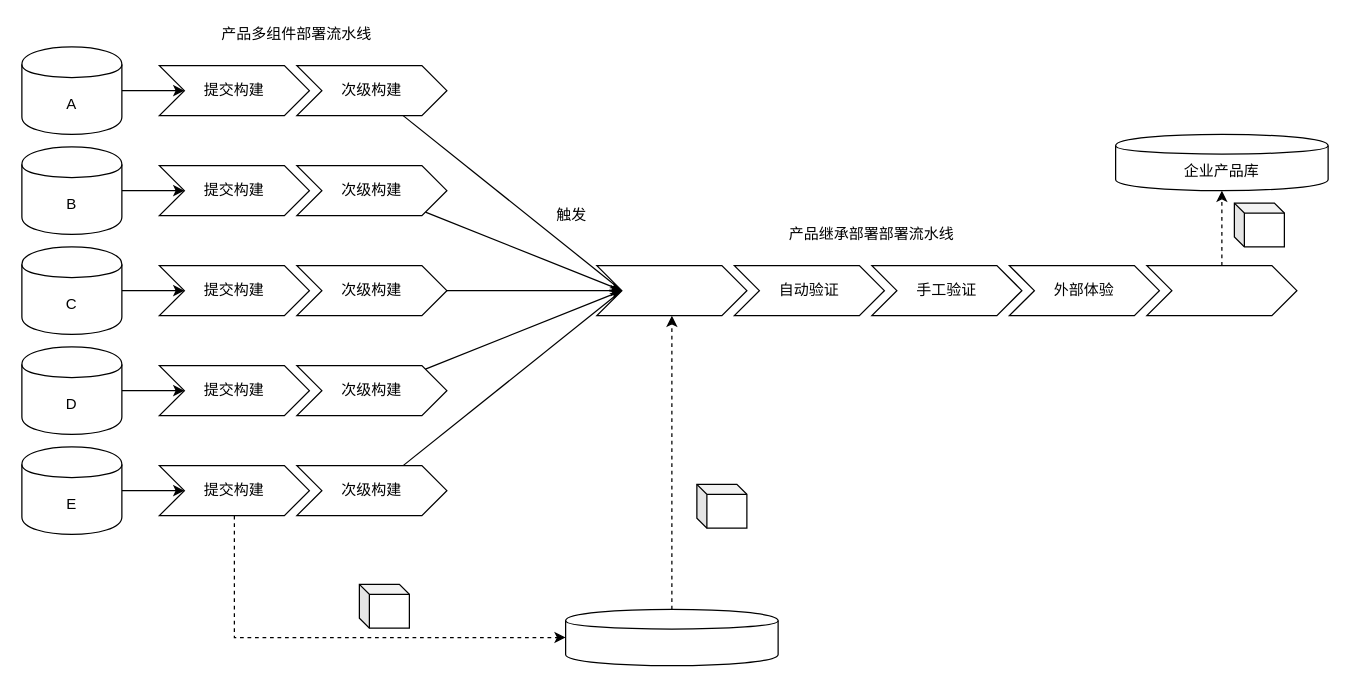
Some shapes in this 1350 by 688 pixel diagram are drawn without their labels. Each missing label, with the centre of its shape:
上传发布: (x=1221, y=290)
企业软件包库: (x=671, y=637)
集成打包: (x=671, y=290)
